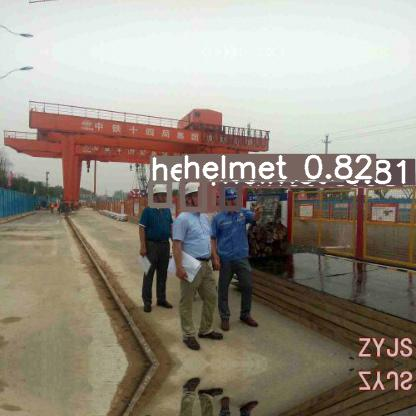helmet: (182, 179, 204, 209), (150, 181, 169, 205), (221, 184, 239, 208), (200, 187, 213, 210), (209, 186, 222, 208)
